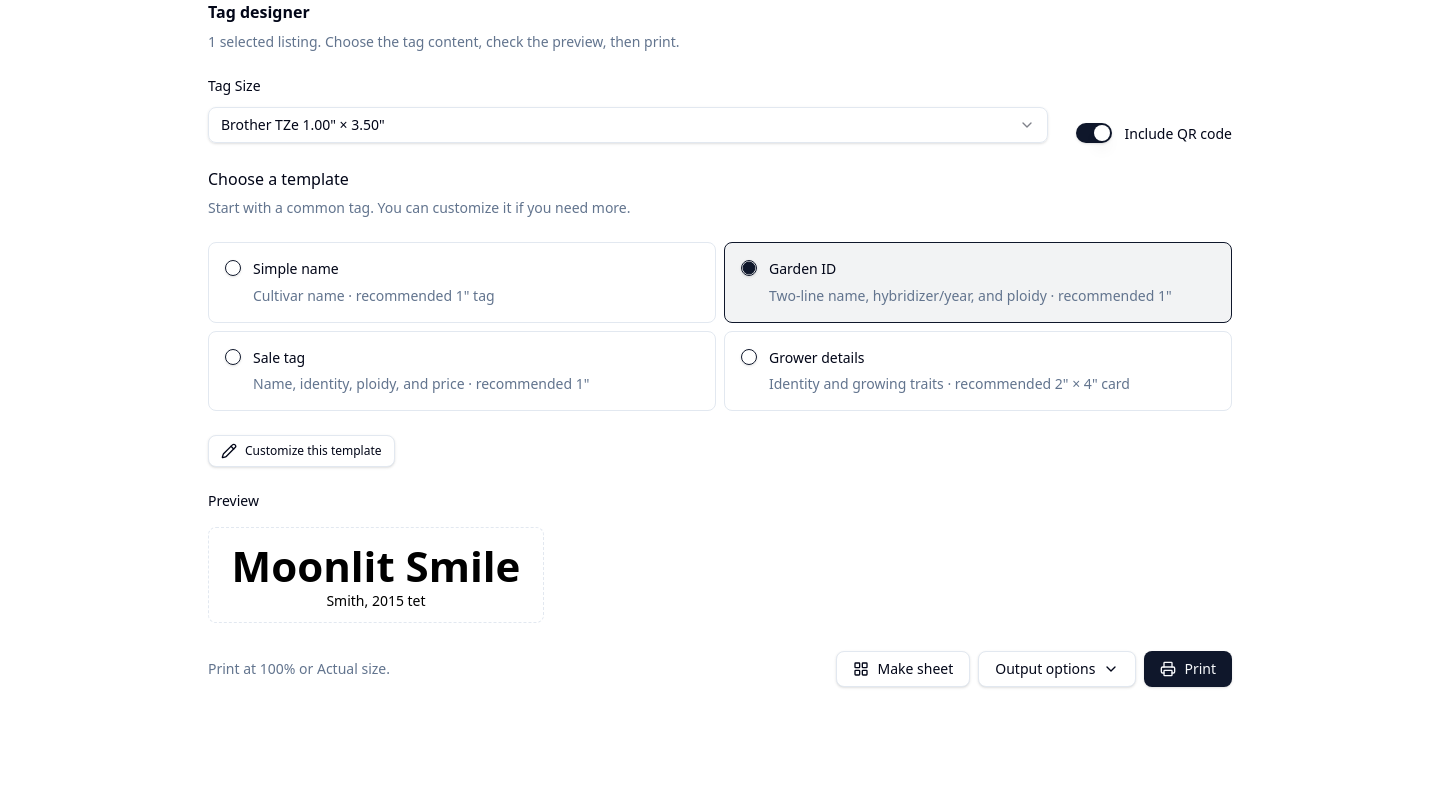
it: TagDesignerPanel › blocks sheet output when the page cannot fit a tag
Click the button "Make sheet": (903, 669) [836,651,970,687]
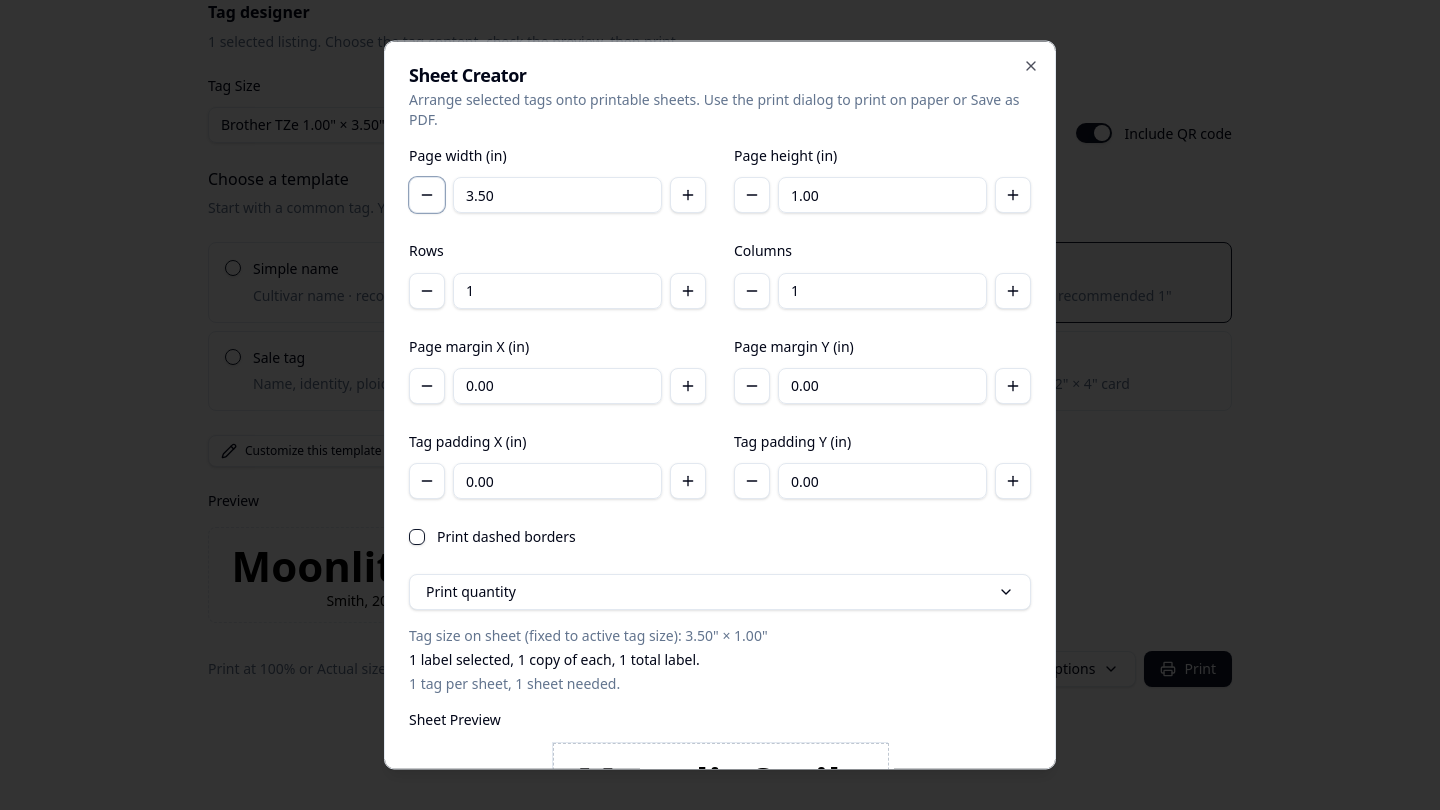
Replace the text in the number field labelled "Page width (in)" with "1": (558, 195) [453,177,662,213]
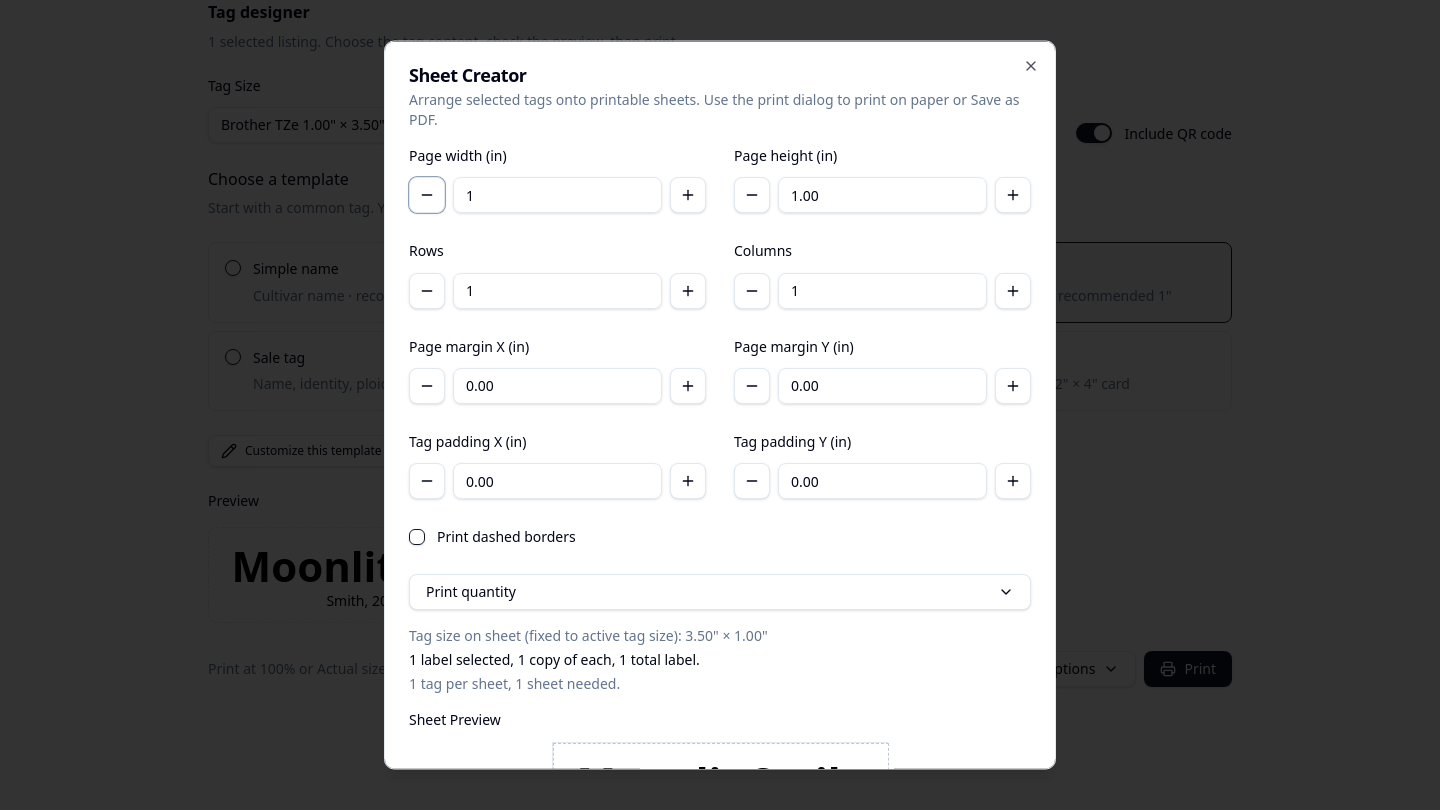
Leave the number field labelled "Page width (in)", box [453,177,662,213]
(page scrolled)
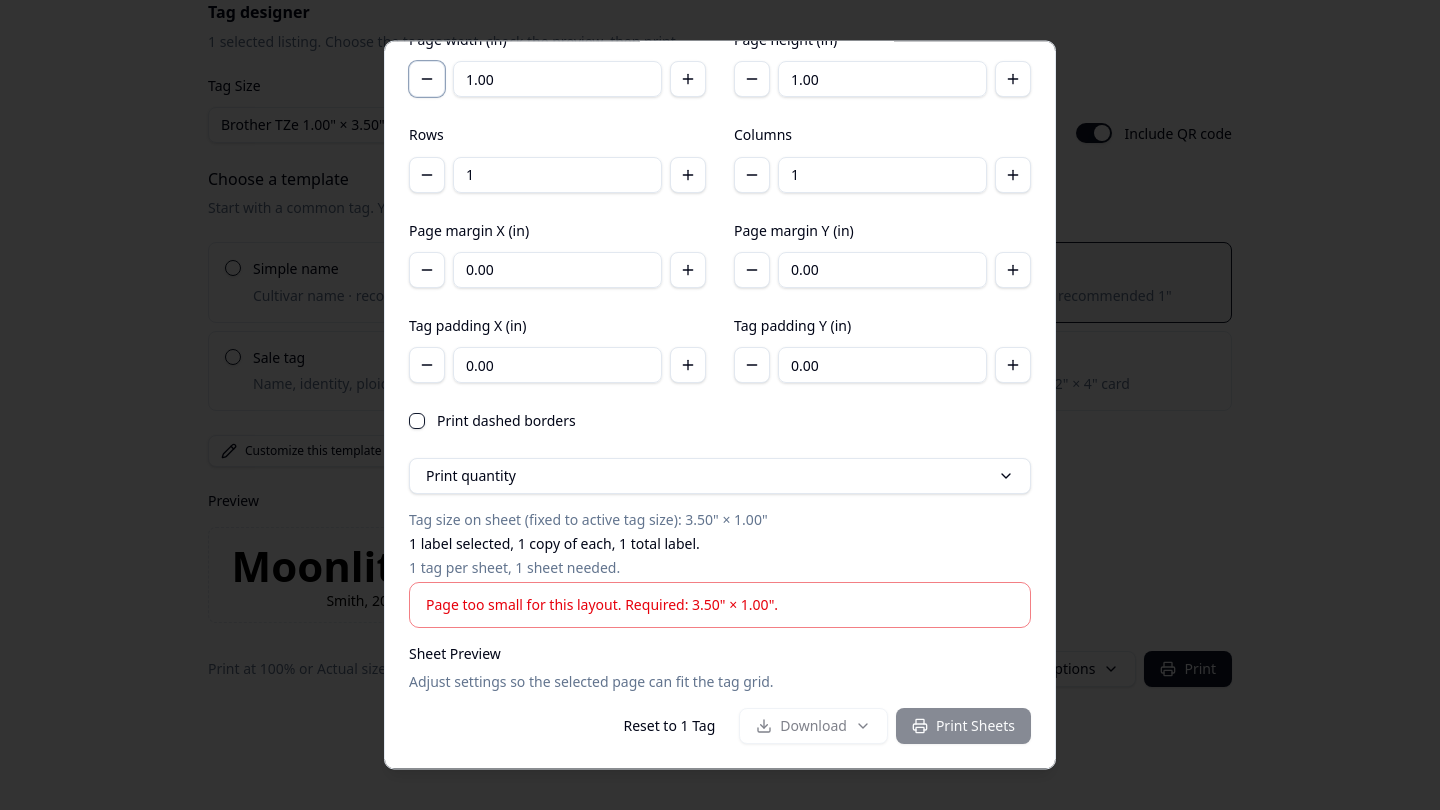
Now the text "Page too small for this layout. Required: 3.50\" × 1.00\"." is shown, box [426,596,778,615]
Now the button "Print Sheets" is disabled, box [896,709,1031,745]
Now the button "Download" is disabled, box [739,709,888,745]
